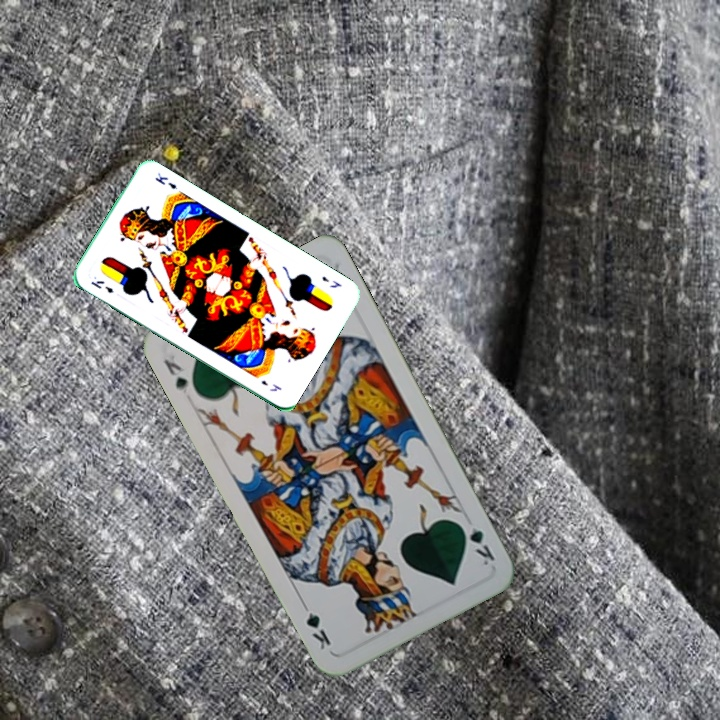EK: (87, 276, 117, 296), (318, 272, 344, 291)
GK: (455, 518, 497, 568), (159, 350, 191, 396)
